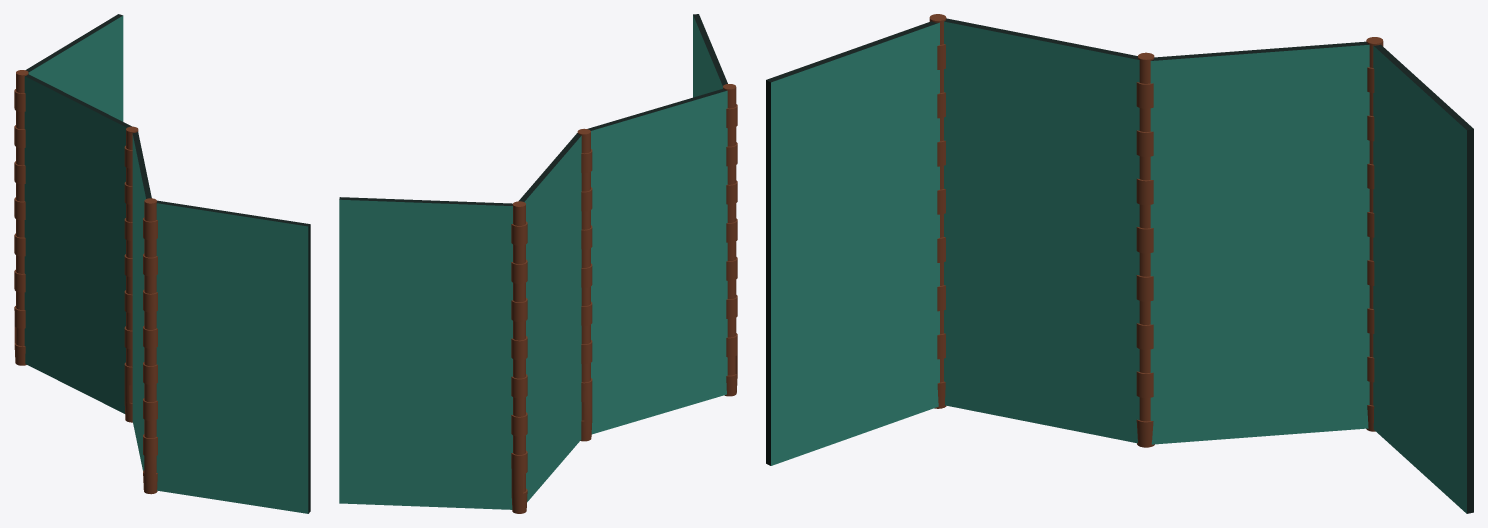
Rendered from Biombo.fbx.
The picture shows the model from 3 angles, left to right: view 1: azimuth 30°, elevation 25°; view 2: azimuth 150°, elevation 25°; view 3: azimuth 270°, elevation 25°; orthographic projection. The views are drawn at different scales.
Visible parts, largest first — view 1: Biombo; view 2: Biombo; view 3: Biombo.
Boxes of the visible parts, x1,y1,x2,y2 form: Biombo: (14, 14, 310, 513); Biombo: (339, 14, 737, 513); Biombo: (766, 14, 1473, 513).
Bounding box in the file's own units: 70.57 × 110 × 183.
